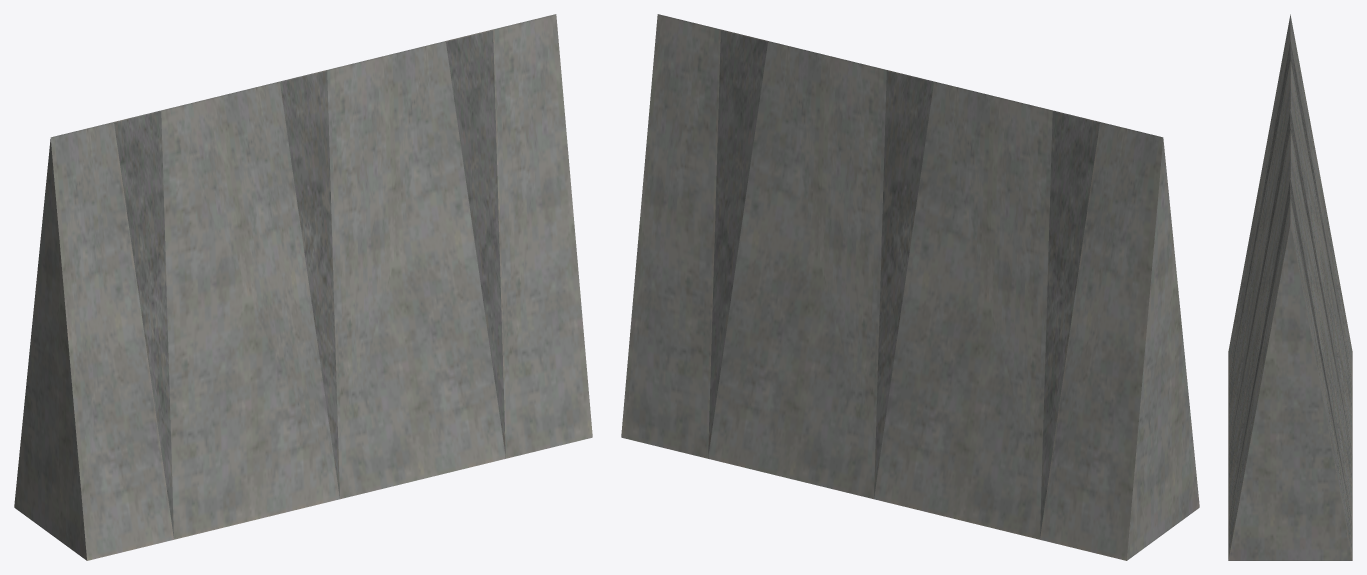
The model's file is mun_all_military_wall_med_impl_s01_l2.fbx.
The picture shows the model from 3 angles, left to right: view 1: azimuth 30°, elevation 25°; view 2: azimuth 150°, elevation 25°; view 3: azimuth 270°, elevation 25°; orthographic projection. The views are drawn at different scales.
Parts seen in each view (by area): view 1: mesh_node; view 2: mesh_node; view 3: mesh_node.
Part boxes in pixels (<box>): mesh_node: <box>14,14,592,560</box>; mesh_node: <box>621,14,1199,560</box>; mesh_node: <box>1228,14,1352,560</box>.
Size of the model in its own units: 8 by 6 by 2.
1 material, 1 textured.
